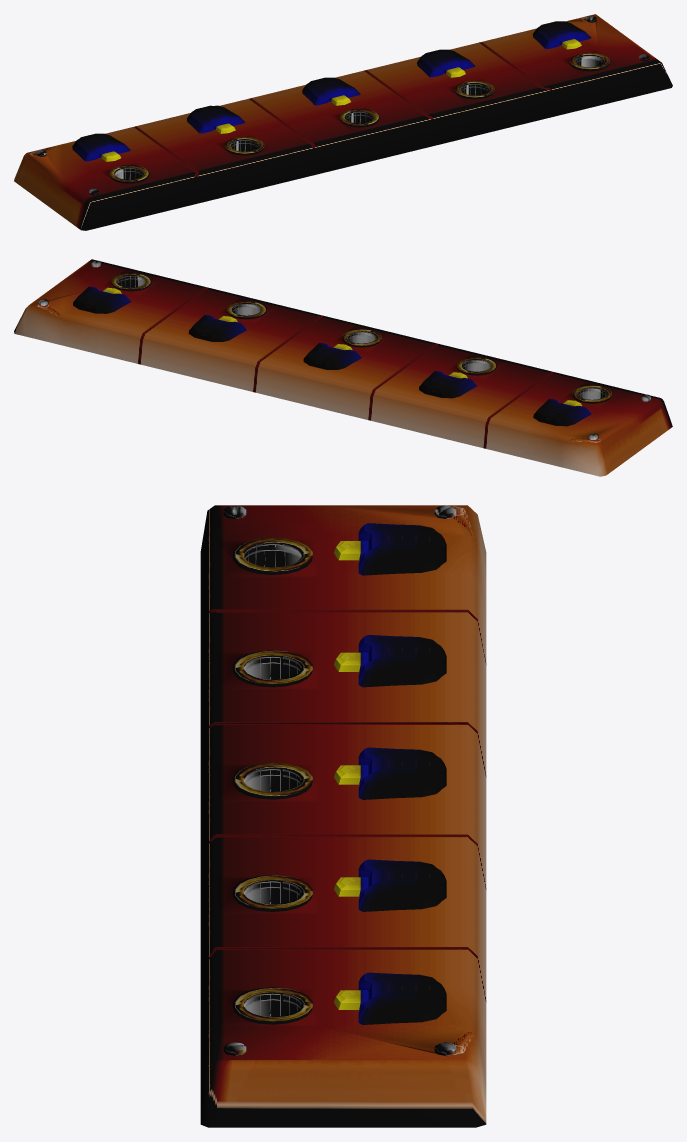
The model's file is Switchboard_1.FBX.
3 views of the same model, one above another, from view 1: azimuth 30°, elevation 25°; view 2: azimuth 150°, elevation 25°; view 3: azimuth 270°, elevation 25° (orthographic). The views are drawn at different scales.
Visible parts, largest first — view 1: Obj_switchbox; view 2: Obj_switchbox; view 3: Obj_switchbox.
Part boxes in pixels (x1,y1,x2,y2): Obj_switchbox: (14, 14, 672, 230); Obj_switchbox: (14, 259, 672, 476); Obj_switchbox: (200, 505, 486, 1127).
Bounding box in the file's own units: 119 × 7.17 × 24.82.
Materials: 2 (2 with a texture image).
